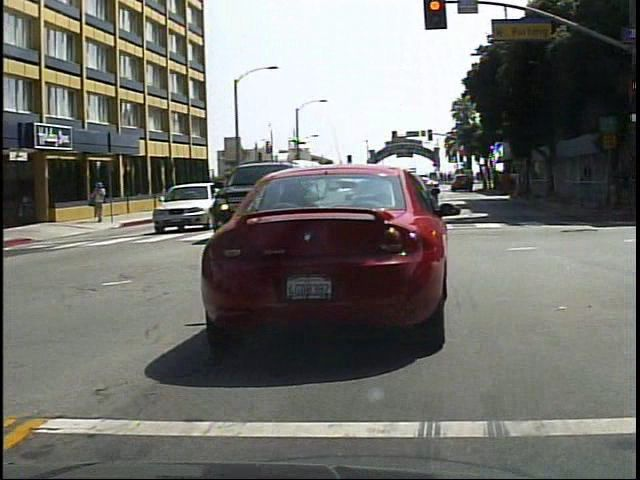person: (90, 178, 112, 226)
